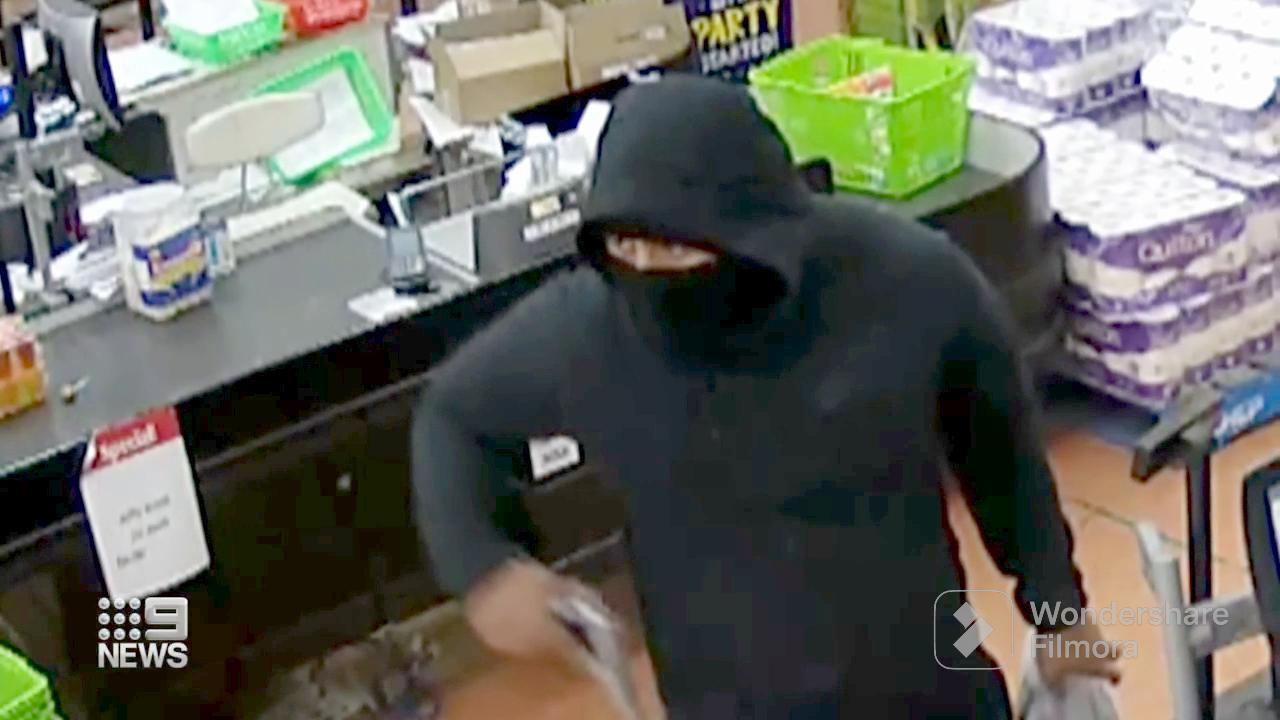gun: (537, 570, 666, 720)
